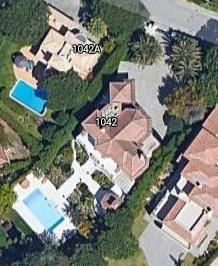pool: (26, 195, 66, 223), (13, 85, 46, 111)
